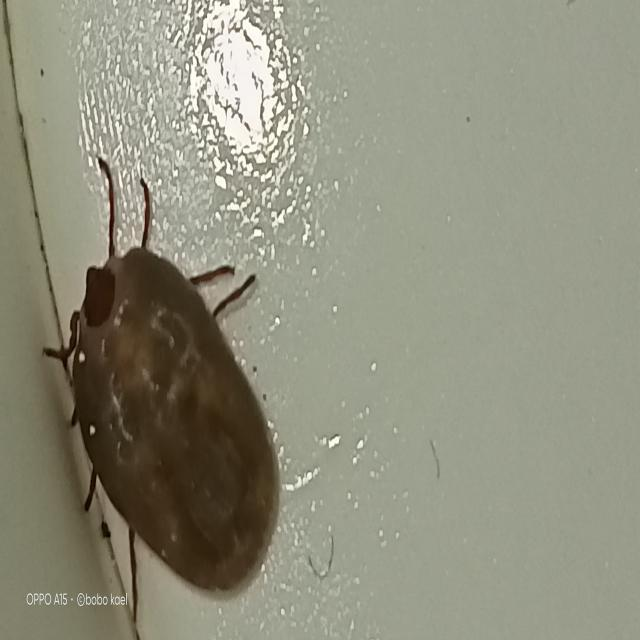Rhipicephalus Sanguineus-F-Fed: (43, 157, 281, 627)
